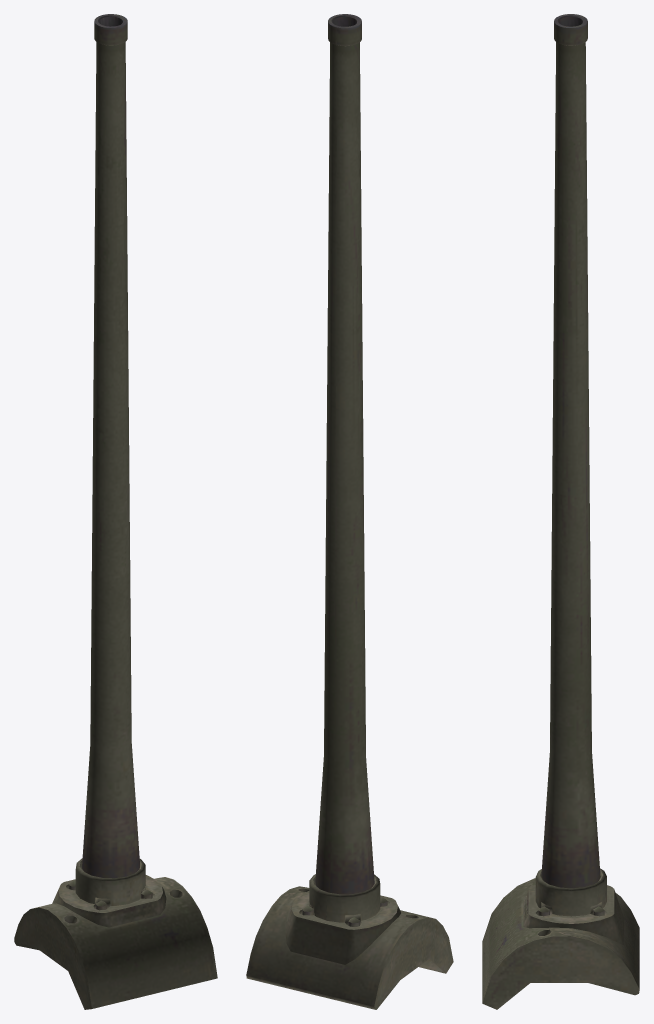
File: Gun_03.glb
3 views of the same model, side by side, from view 1: azimuth 30°, elevation 25°; view 2: azimuth 150°, elevation 25°; view 3: azimuth 270°, elevation 25° (orthographic).
Parts seen in each view (by area): view 1: set_0_group_0; view 2: set_0_group_0; view 3: set_0_group_0.
Boxes of the visible parts, <box> form: set_0_group_0: <box>14,14,217,1009</box>; set_0_group_0: <box>246,14,453,1009</box>; set_0_group_0: <box>482,14,639,1009</box>.
Size of the model in its own units: 0.6034 by 4.34 by 0.6466.
1 material, 1 textured.
